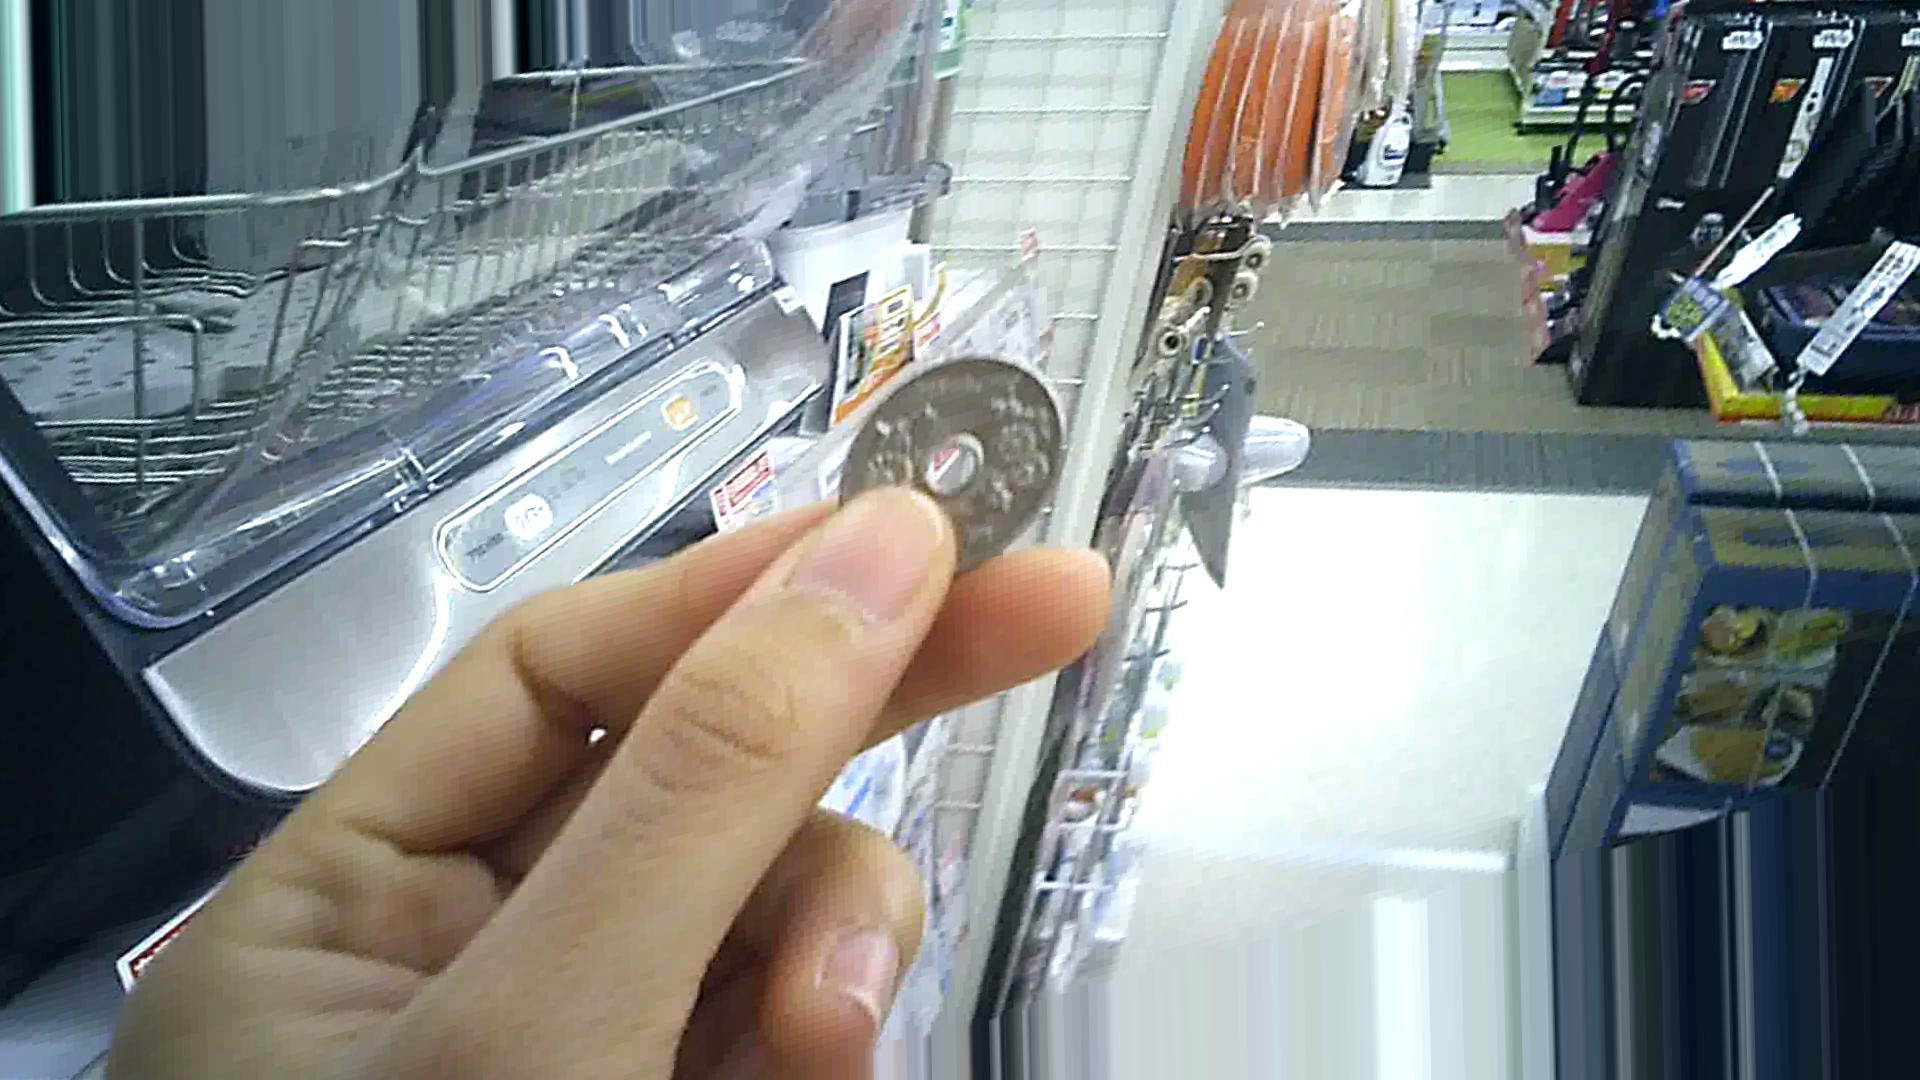50 Yen: (819, 345, 1069, 588)
